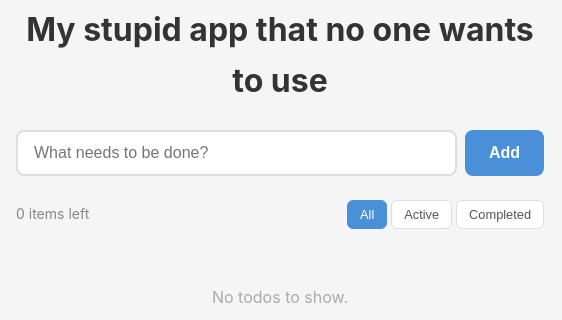
Todo App › adds a todo when typing and clicking Add
Type "Buy groceries" into the field with placeholder "What needs to be done?" at (236, 153), box [16, 130, 457, 176]
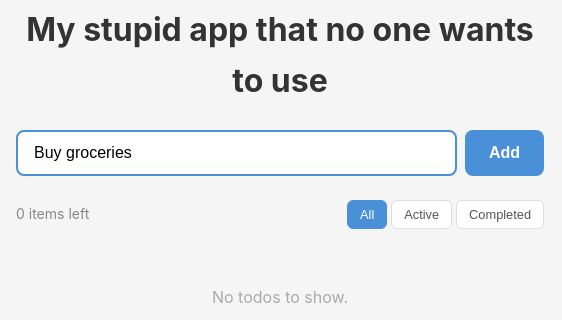
Click the button "Add" at (504, 153), box [465, 130, 544, 176]
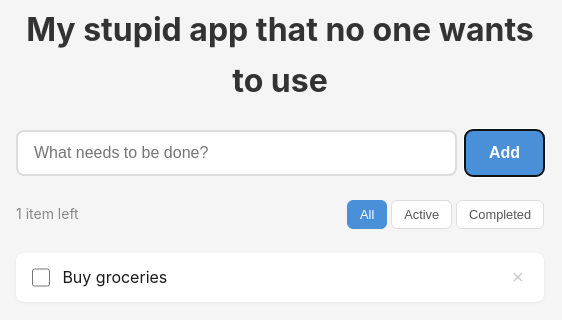
Check: the text "Buy groceries" is shown, box [62, 265, 167, 290]
